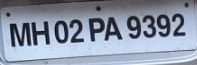character: (8, 21, 31, 47), (31, 20, 50, 45), (103, 16, 122, 41), (87, 16, 104, 42), (68, 18, 85, 43), (53, 19, 69, 44), (125, 14, 141, 39), (155, 13, 171, 37), (170, 12, 186, 36), (141, 14, 156, 38)
